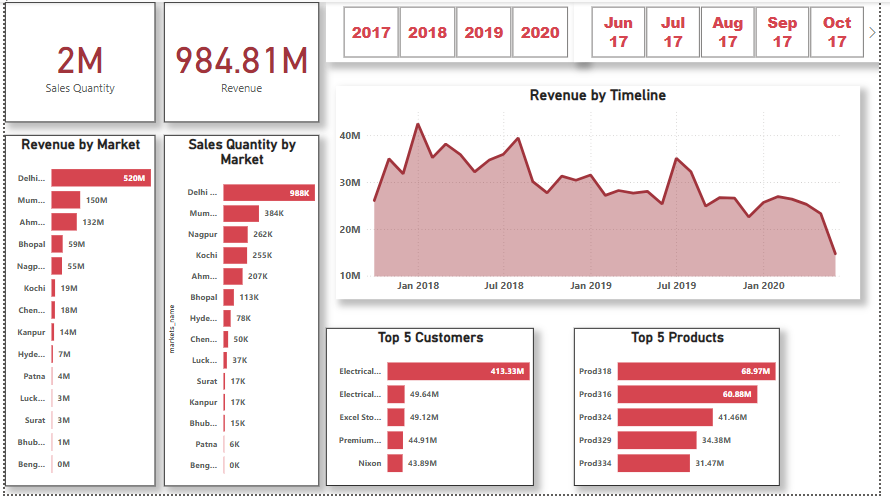

This screenshot's page, from the dashboard's own definition file:
{"tool":"powerbi","page":{"name":"Page 1","canvas":[1280,720],"ordinal":0},"visuals":[{"type":"card","fields":{"Values":["BaseMeasures.Sales_qty"]},"box":[0,0,219.5,175.6],"z":0},{"type":"card","fields":{"Values":["BaseMeasures.Revenue"]},"box":[232.7,0,226.8,175.6],"z":1000},{"type":"barChart","title":"Revenue by Market","fields":{"Category":["sales markets.markets_name"],"Y":["BaseMeasures.Revenue"]},"box":[0,194.6,219.5,513.7],"z":2000},{"type":"barChart","title":"Sales Quantity by Market","fields":{"Y":["BaseMeasures.Sales_qty"],"Category":["sales markets.markets_name"]},"box":[232.7,194.6,226.8,513.7],"z":3000},{"type":"slicer","fields":{"Values":["sales date.year"]},"box":[469.8,0,377.6,87.8],"z":4000},{"type":"slicer","fields":{"Values":["sales date.cy_date"]},"box":[832.7,0,447.8,87.8],"z":5000},{"type":"barChart","title":"Top 5  Customers","fields":{"Y":["BaseMeasures.Revenue"],"Category":["sales customers.custmer_name"]},"box":[469.8,477.1,304.4,231.2],"z":6000},{"type":"barChart","title":"Top 5  Products","fields":{"Y":["BaseMeasures.Revenue"],"Category":["sales transactions.product_code"]},"box":[832.7,477.1,301.5,231.2],"z":7000},{"type":"lineChart","title":"Revenue by Timeline","fields":{"Y":["BaseMeasures.Revenue"],"Category":["sales date.cy_date.Variation.Date Hierarchy.Year","sales date.cy_date.Variation.Date Hierarchy.Quarter","sales date.cy_date.Variation.Date Hierarchy.Month","sales date.cy_date.Variation.Date Hierarchy.Day"]},"box":[484.4,122.9,766.8,311.7],"z":8000}]}

Visuals, with their boxes in screenshot pixels (x1, y1, x2, y2), scaled from the page's 1280x720 canvas onto the 890x500 screenshot:
card - BaseMeasures.Sales_qty: (left=0, top=0, right=153, bottom=122)
card - BaseMeasures.Revenue: (left=162, top=0, right=319, bottom=122)
"Revenue by Market" barChart: (left=0, top=135, right=153, bottom=492)
"Sales Quantity by Market" barChart: (left=162, top=135, right=319, bottom=492)
slicer - sales date.year: (left=327, top=0, right=589, bottom=61)
slicer - sales date.cy_date: (left=579, top=0, right=889, bottom=61)
"Top 5  Customers" barChart: (left=327, top=331, right=538, bottom=492)
"Top 5  Products" barChart: (left=579, top=331, right=789, bottom=492)
"Revenue by Timeline" lineChart: (left=337, top=85, right=870, bottom=302)
